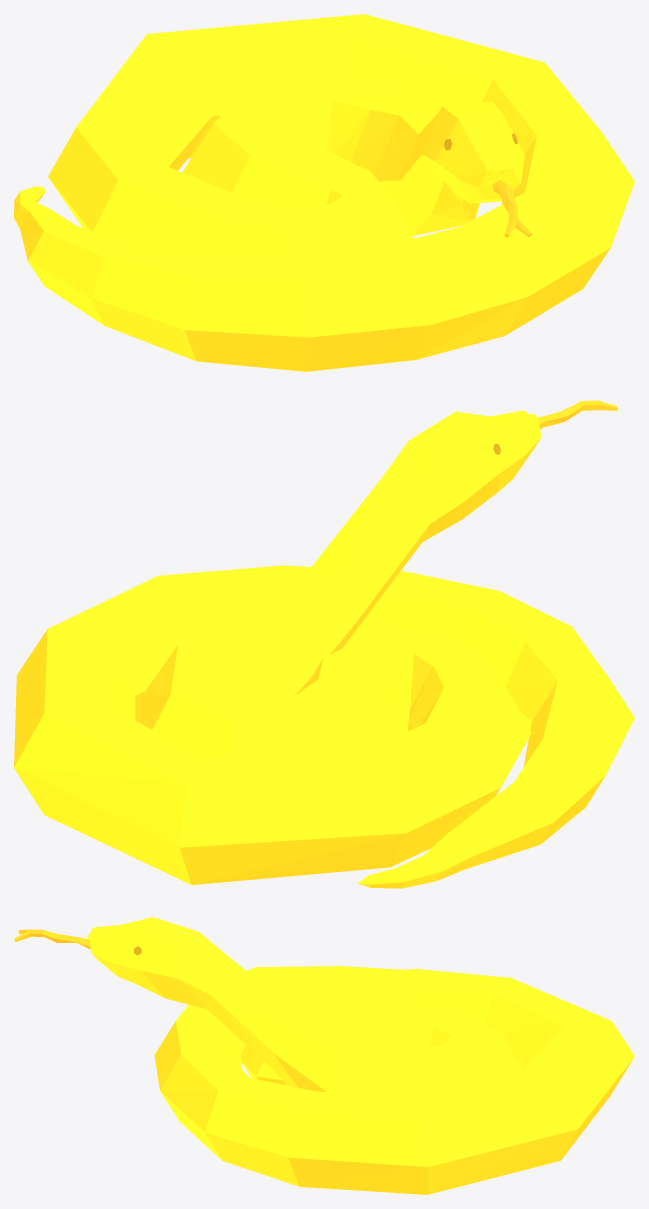
File: serpiente2.gltf
3 renders of one model, top to bottom at view 1: azimuth 30°, elevation 25°; view 2: azimuth 150°, elevation 25°; view 3: azimuth 270°, elevation 25°, orthographic. The views are drawn at different scales.
Visible parts, largest first — view 1: node_MeshObject686712832-PolyPaper21; view 2: node_MeshObject686712832-PolyPaper21; view 3: node_MeshObject686712832-PolyPaper21.
Boxes of the visible parts, x1,y1,x2,y2 form: node_MeshObject686712832-PolyPaper21: [14, 14, 634, 371]; node_MeshObject686712832-PolyPaper21: [14, 400, 634, 888]; node_MeshObject686712832-PolyPaper21: [14, 917, 634, 1194].
Size of the model in its own units: 1 by 0.4382 by 1.34.
